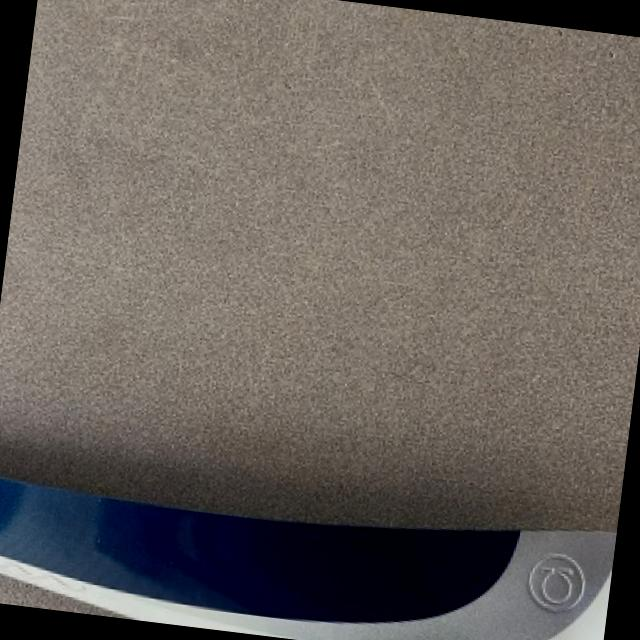healthy: (0, 0, 640, 528), (0, 479, 617, 640)
